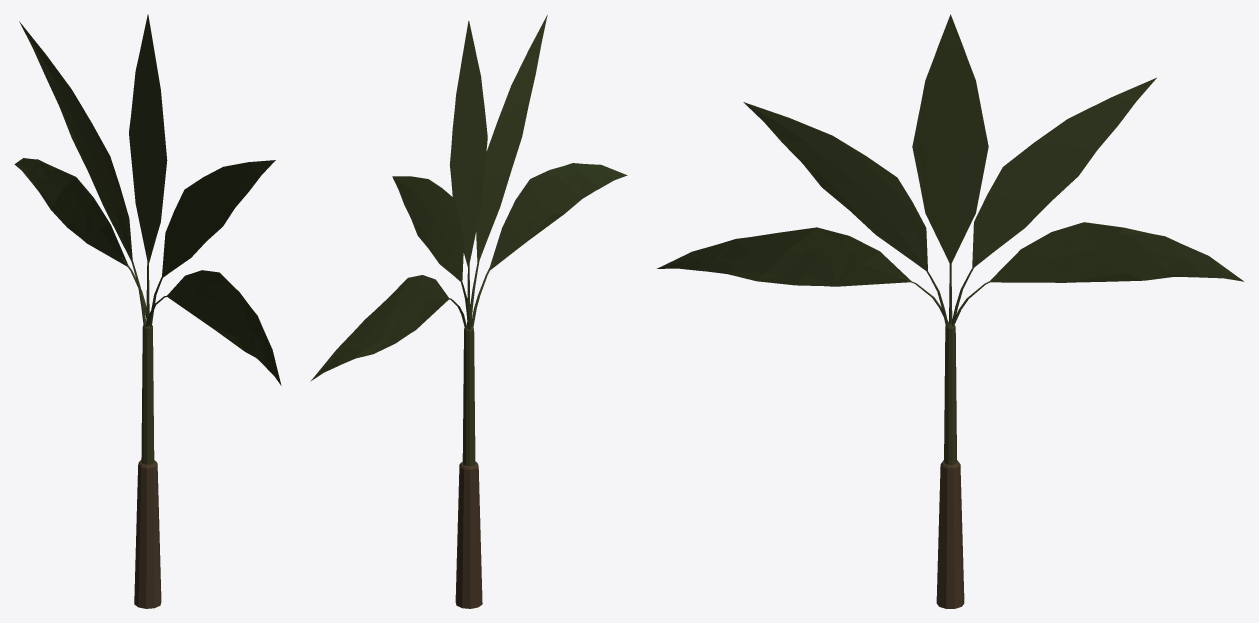
File: Trastic01.fbx
3 views of the same model, side by side, from view 1: azimuth 30°, elevation 25°; view 2: azimuth 150°, elevation 25°; view 3: azimuth 270°, elevation 25° (orthographic).
Visible parts, largest first — view 1: Cylinder.001, Cylinder; view 2: Cylinder.001, Cylinder; view 3: Cylinder.001, Cylinder.
Boxes of the visible parts, x1,y1,x2,y2 form: Cylinder.001: (14,14,281,385); Cylinder: (134,323,161,608); Cylinder.001: (310,15,627,381); Cylinder: (455,326,482,608); Cylinder.001: (657,14,1243,326); Cylinder: (936,323,964,608).
Bounding box in the file's own units: 262 × 2957 × 2677.
